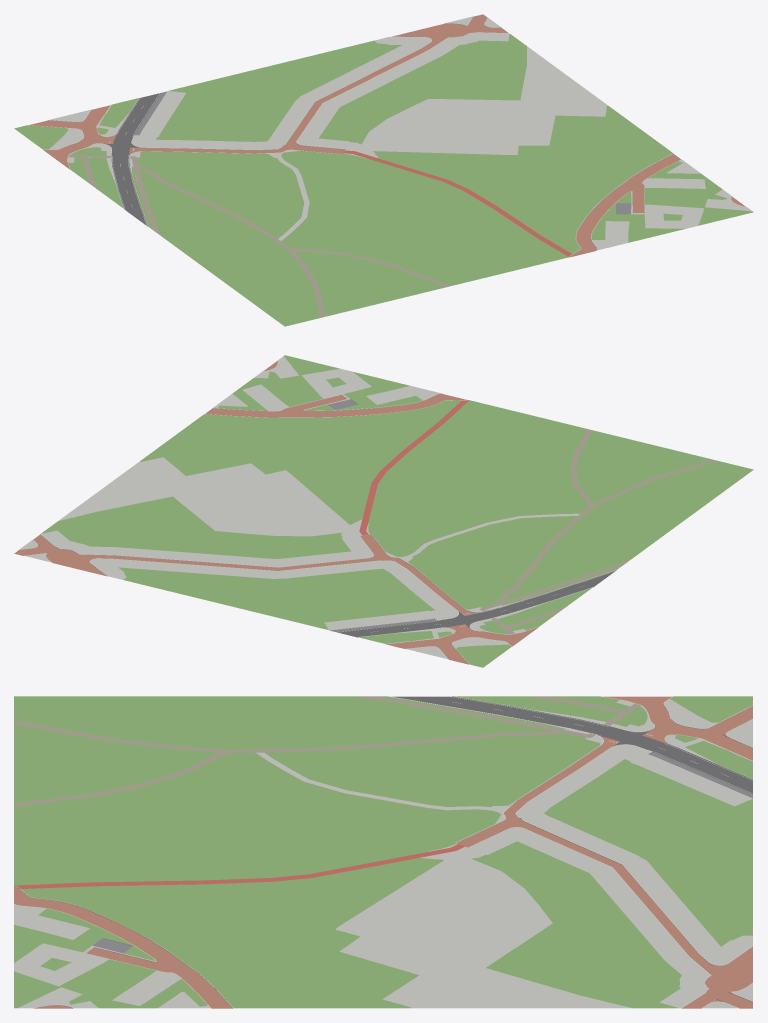
File: ground_4_10.glb
3 views of the same model, one above another, from view 1: azimuth 30°, elevation 25°; view 2: azimuth 150°, elevation 25°; view 3: azimuth 270°, elevation 25° (orthographic). The views are drawn at different scales.
Visible parts, largest first — view 1: ground_4_10; view 2: ground_4_10; view 3: ground_4_10.
Boxes of the visible parts, <box> form: ground_4_10: <box>14,14,753,326</box>; ground_4_10: <box>14,355,753,667</box>; ground_4_10: <box>14,696,753,1008</box>.
Bounding box in the file's own units: 200 × 0.12 × 200.
